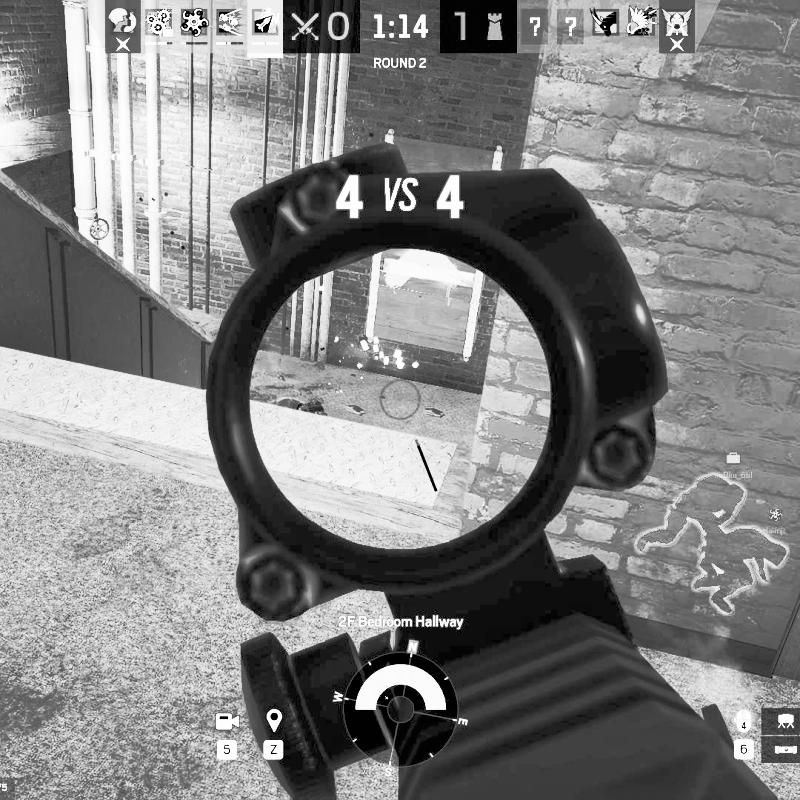Character: (267, 394, 332, 416)
Friend_label: (714, 450, 755, 481), (754, 507, 796, 536)
